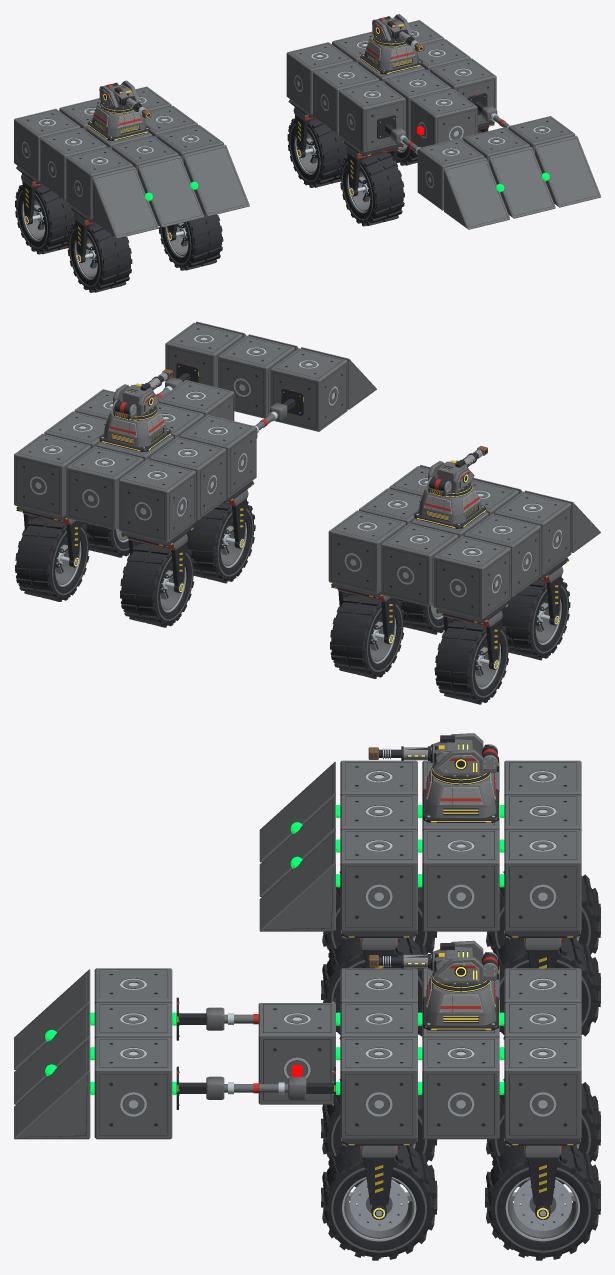
File: ASM_two_robots.glb
3 renders of one model, top to bottom at view 1: azimuth 30°, elevation 25°; view 2: azimuth 150°, elevation 25°; view 3: azimuth 270°, elevation 25°, orthographic. The views are drawn at different scales.
Parts seen in each view (by area): view 1: R4B_Wedge, R4B_Cube.011, R4B_Wedge.003, R4M_Wheel_Rotor.005, R4M_Wheel_Rotor.001, R4B_Cube.021, R4B_Wedge.002, R4B_Wedge.005, R4B_Wedge.004, R4B_Wedge.001, R4M_Wheel_Rotor.004, R4M_Wheel_Rotor (+33 smaller); view 2: R4B_Cube, R4B_Cube.009, R4B_Cube.018, R4M_Wheel_Rotor.002, R4M_Wheel_Rotor, R4M_Wheel_Rotor.004, R4M_Wheel_Rotor.006, R4B_Cube.006, R4B_Cube.003, R4B_Cube.012, R4B_Cube.015, R4B_Cube.019 (+34 smaller); view 3: R4M_Wheel_Rotor.007, R4M_Wheel_Rotor.006, R4B_Cube.020, R4B_Cube.016, R4B_Cube.017, R4B_Cube.015, R4B_Cube.007, R4B_Cube.006, R4B_Cube.008, R4B_Cube.021, R4B_Wedge.005, R4B_Wedge.002 (+33 smaller).
Part boxes in pixels (<box>): R4B_Wedge: <box>92,166,158,238</box>; R4B_Cube.011: <box>339,80,405,152</box>; R4B_Wedge.003: <box>444,158,509,229</box>; R4M_Wheel_Rotor.005: <box>340,152,404,226</box>; R4M_Wheel_Rotor.001: <box>67,223,132,292</box>; R4B_Cube.021: <box>410,88,477,147</box>; R4B_Wedge.002: <box>183,144,249,216</box>; R4B_Wedge.005: <box>535,135,600,207</box>; R4B_Wedge.004: <box>489,147,555,218</box>; R4B_Wedge.001: <box>138,155,204,227</box>; R4M_Wheel_Rotor.004: <box>287,118,347,187</box>; R4M_Wheel_Rotor: <box>15,185,74,254</box>; R4B_Cube: <box>433,536,510,619</box>; R4B_Cube.009: <box>119,459,195,542</box>; R4B_Cube.018: <box>270,348,347,431</box>; R4M_Wheel_Rotor.002: <box>330,593,404,678</box>; R4M_Wheel_Rotor: <box>434,619,509,704</box>; R4M_Wheel_Rotor.004: <box>120,542,194,627</box>; R4M_Wheel_Rotor.006: <box>15,516,89,601</box>; R4B_Cube.006: <box>328,510,405,593</box>; R4B_Cube.003: <box>381,523,458,606</box>; R4B_Cube.012: <box>66,446,143,529</box>; R4B_Cube.015: <box>14,433,90,516</box>; R4B_Cube.019: <box>218,335,294,418</box>; R4M_Wheel_Rotor.007: <box>321,1145,437,1260</box>; R4M_Wheel_Rotor.006: <box>485,1145,600,1260</box>; R4B_Cube.020: <box>94,1037,172,1139</box>; R4B_Cube.016: <box>422,1037,499,1139</box>; R4B_Cube.017: <box>340,1037,417,1139</box>; R4B_Cube.015: <box>504,1037,581,1139</box>; R4B_Cube.007: <box>422,830,499,931</box>; R4B_Cube.006: <box>504,830,581,931</box>; R4B_Cube.008: <box>340,830,417,931</box>; R4B_Cube.021: <box>258,1003,335,1104</box>; R4B_Wedge.005: <box>14,1038,90,1139</box>; R4B_Wedge.002: <box>259,831,335,931</box>.
Size of the model in its own units: 4.92 by 1.99 by 3.94.
